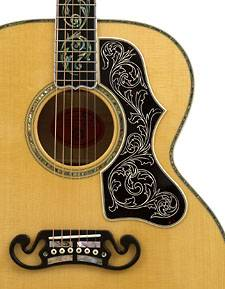guitar: (1, 2, 225, 287)
